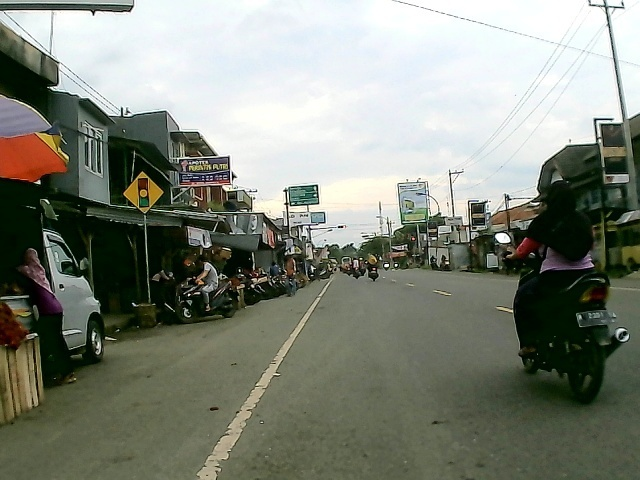Lampu isyarat: (120, 169, 166, 217)
